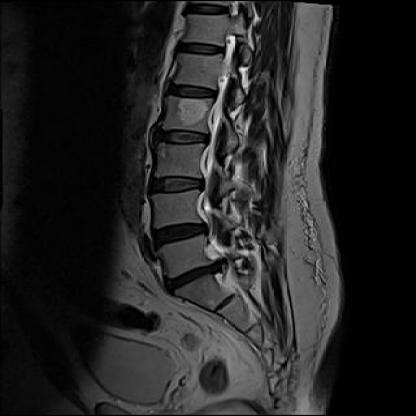Degenerative Disc Diseaserotation: (157, 256, 235, 285), (146, 217, 213, 247), (149, 172, 205, 196)
Disc Bulgerotation: (159, 256, 235, 286), (146, 217, 216, 248), (148, 172, 206, 196)
